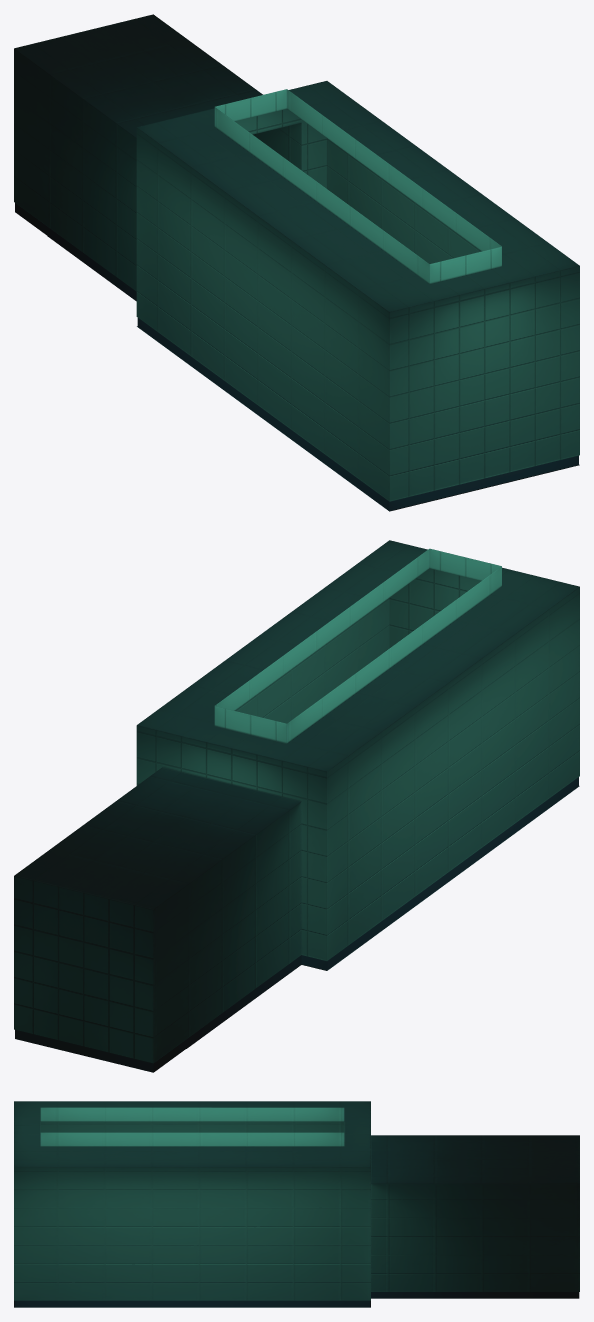
Rendered from there_is_something....glb.
3 renders of one model, top to bottom at view 1: azimuth 30°, elevation 25°; view 2: azimuth 150°, elevation 25°; view 3: azimuth 270°, elevation 25°, orthographic. The views are drawn at different scales.
Visible parts, largest first — view 1: Cube_0; view 2: Cube_0; view 3: Cube_0.
Part boxes in pixels (<box>): Cube_0: <box>14,14,579,511</box>; Cube_0: <box>14,540,579,1072</box>; Cube_0: <box>14,1101,579,1307</box>.
Size of the model in its own units: 4.2 by 4.62 by 15.32.
Materials: 3 (3 with a texture image).
